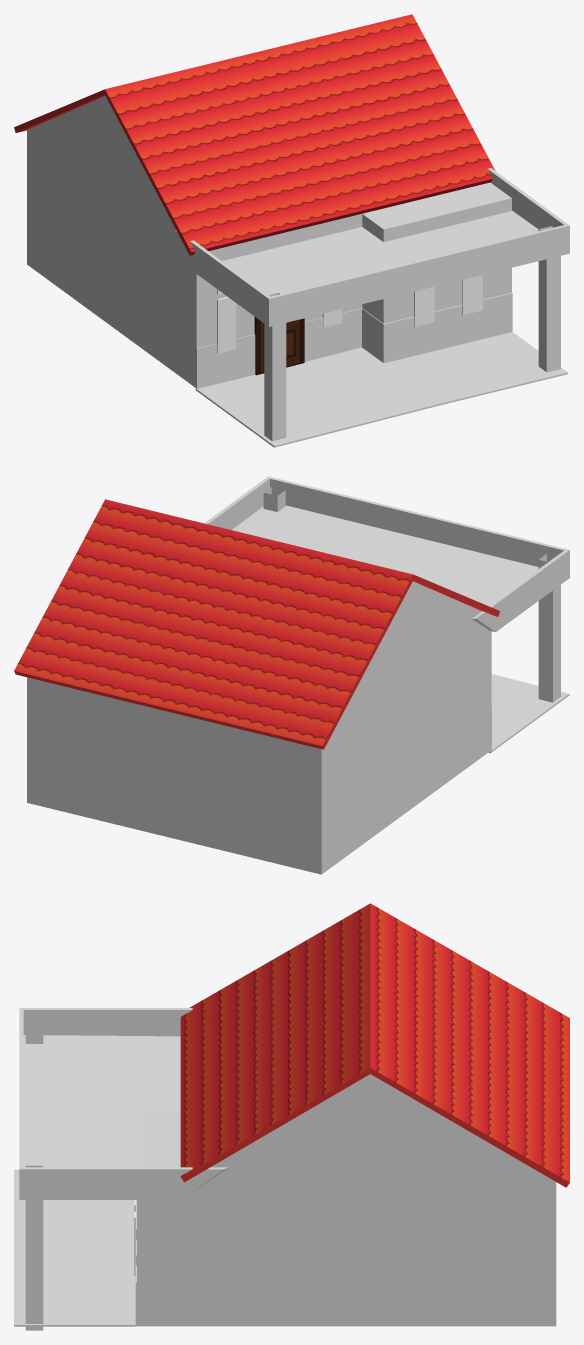
Rendered from NPCRumah1.fbx.
3 views of the same model, one above another, from view 1: azimuth 30°, elevation 25°; view 2: azimuth 150°, elevation 25°; view 3: azimuth 270°, elevation 25° (orthographic). The views are drawn at different scales.
Parts seen in each view (by area): view 1: RumahNPC1_LOD0, RumahWallNPC1_LOD0; view 2: RumahNPC1_LOD0; view 3: RumahNPC1_LOD0.
Boxes of the visible parts, bbox=[...] form: RumahNPC1_LOD0: bbox=[14, 14, 569, 447]; RumahWallNPC1_LOD0: bbox=[196, 292, 512, 388]; RumahNPC1_LOD0: bbox=[14, 476, 569, 874]; RumahNPC1_LOD0: bbox=[14, 903, 569, 1330].
Size of what is drawn, in the model's own units: 1296 by 982 by 1850.
